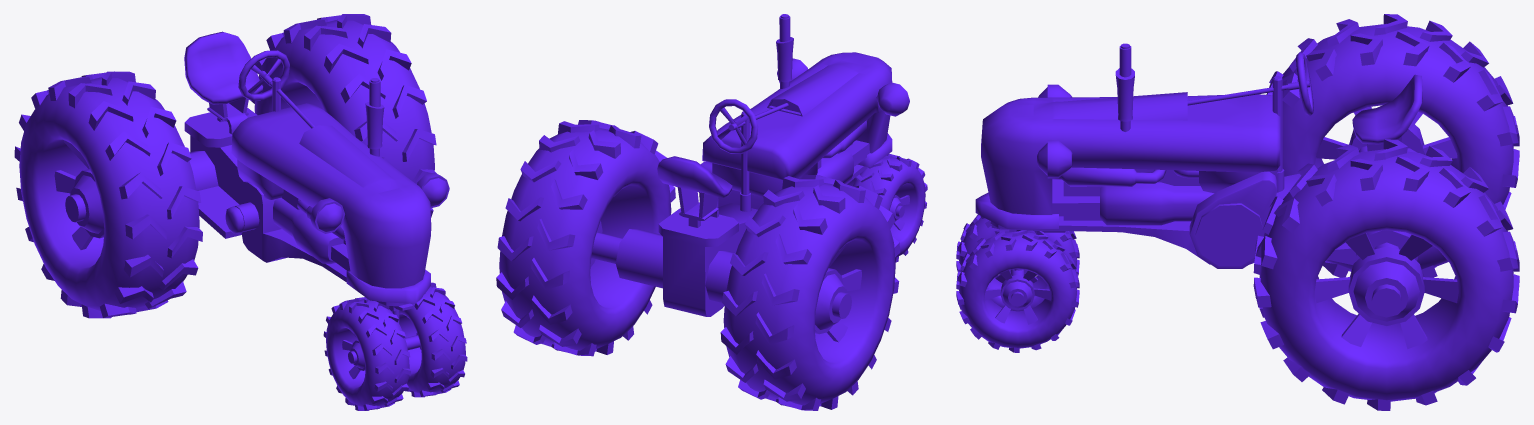
Rendered from Tractor_Low.fbx.
3 renders of one model, left to right at view 1: azimuth 30°, elevation 25°; view 2: azimuth 150°, elevation 25°; view 3: azimuth 270°, elevation 25°, orthographic. The views are drawn at different scales.
Parts seen in each view (by area): view 1: Tracktor_L; view 2: Tracktor_L; view 3: Tracktor_L.
Boxes of the visible parts, x1=… form: Tracktor_L: x1=14, y1=14, x2=467, y2=410; Tracktor_L: x1=496, y1=14, x2=927, y2=410; Tracktor_L: x1=956, y1=14, x2=1519, y2=410.
Size of the model in its own units: 3.85 by 3.15 by 5.31.
